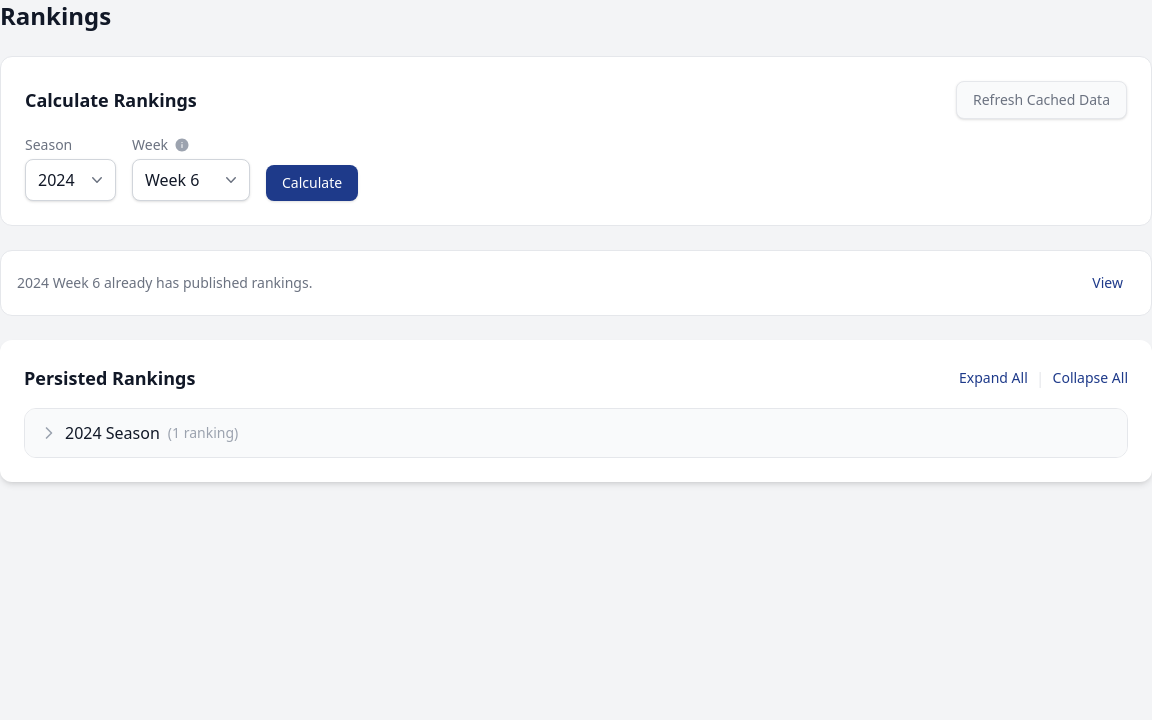
Test: RankingsSnapshotsPage › does not calculate when the overwrite confirm modal is cancelled
Click the button "Calculate".
click(312, 183)  # box [266,165,358,201]
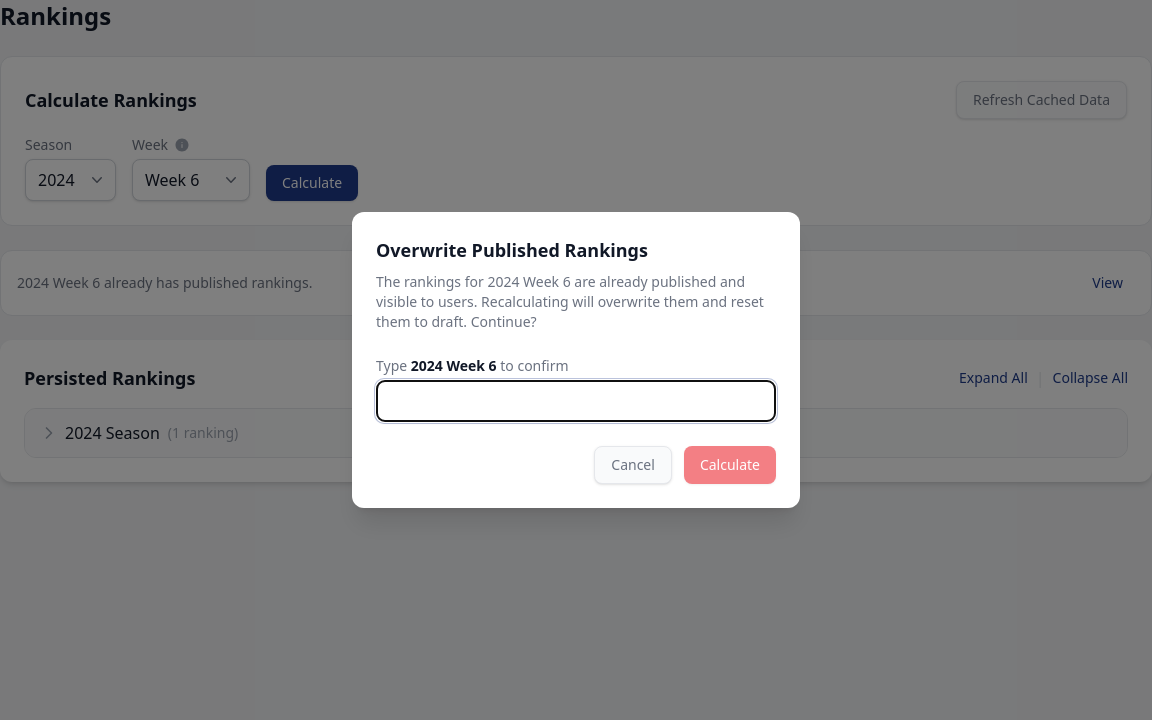
Check: the dialog is shown
Click the button "Cancel".
click(633, 465)  # box [594,446,672,484]
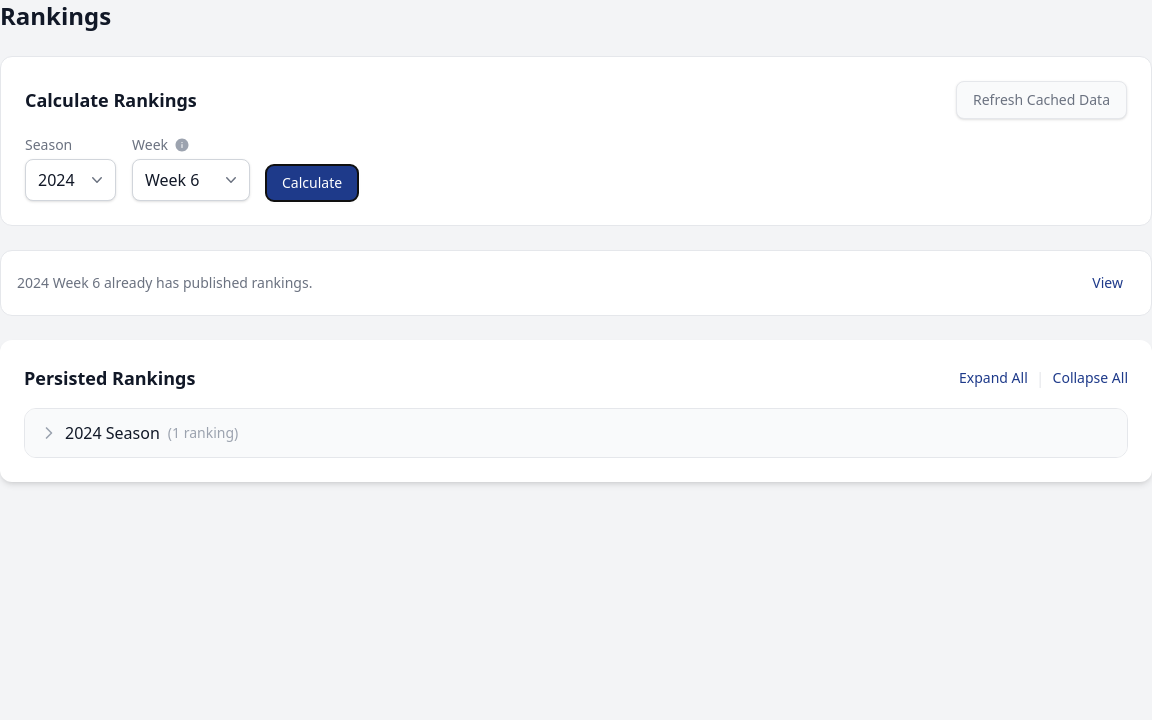
Check: the dialog is gone
